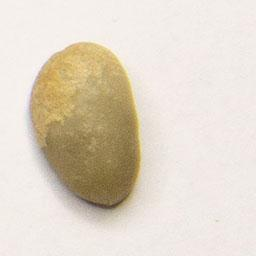longberry: (26, 40, 145, 212)
